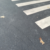zebra: (11, 1, 50, 28)
